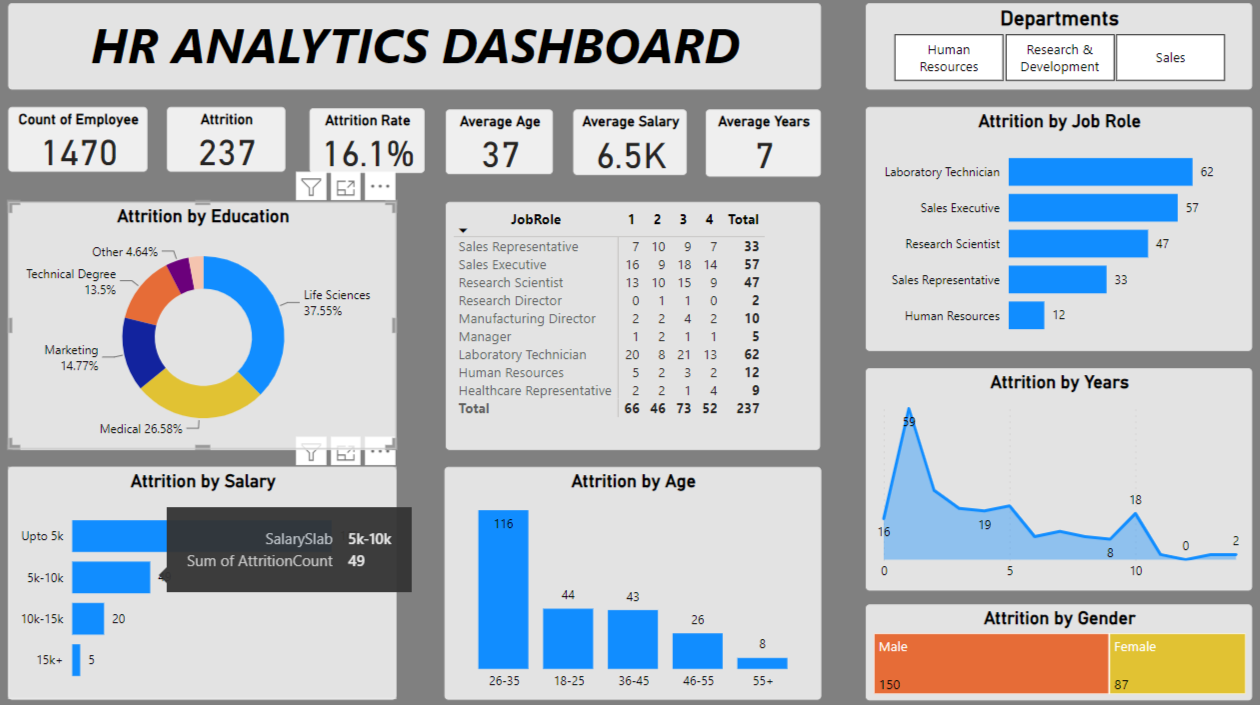

Layout of this report page (visuals, bound fields, positions):
{"tool":"powerbi","page":{"name":"Page 1","canvas":[1280,720],"ordinal":0},"visuals":[{"type":"card","title":"Count of Employee","fields":{"Values":["CountNonNull(HR_Analytics.EmpID)"]},"box":[17,113.8,139.4,64.9],"z":0},{"type":"card","title":"Attrition","fields":{"Values":["Sum(HR_Analytics.AttritionCount)"]},"box":[176.6,113.8,118.1,64.9],"z":1000},{"type":"card","title":"Attrition Rate","fields":{"Values":["HR_Analytics.AttritionRate"]},"box":[319.1,114.9,114.9,64.9],"z":2000},{"type":"card","title":"Average Age ","fields":{"Values":["Avg(HR_Analytics.Age)"]},"box":[455.3,116,107.4,64.9],"z":3000},{"type":"card","title":"Average Salary","fields":{"Values":["Avg(HR_Analytics.MonthlyIncome)"]},"box":[583,116,113.8,66],"z":4000},{"type":"card","title":"Average Years ","fields":{"Values":["Avg(HR_Analytics.YearsAtCompany)"]},"box":[714.9,116,114.9,67],"z":5000},{"type":"donutChart","title":"Attrition by Education","fields":{"Category":["HR_Analytics.EducationField"],"Y":["Sum(HR_Analytics.AttritionCount)"]},"box":[17,208.5,388.3,247.9],"z":6000},{"type":"columnChart","title":"Attrition by Age","fields":{"Category":["HR_Analytics.AgeGroup"],"Y":["Sum(HR_Analytics.AttritionCount)"]},"box":[453.2,473.4,376.6,233],"z":7000},{"type":"pivotTable","fields":{"Rows":["HR_Analytics.JobRole"],"Columns":["HR_Analytics.JobSatisfaction"],"Values":["Sum(HR_Analytics.AttritionCount)"]},"box":[455.3,208.5,374.5,247.9],"z":8000},{"type":"barChart","title":"Attrition by Salary","fields":{"Category":["HR_Analytics.SalarySlab"],"Y":["Sum(HR_Analytics.AttritionCount)"]},"box":[17,473.4,388.3,233],"z":9000},{"type":"barChart","title":"Attrition by Job Role","fields":{"Category":["HR_Analytics.JobRole"],"Y":["Sum(HR_Analytics.AttritionCount)"]},"box":[875.5,113.8,386.2,243.6],"z":10000},{"type":"areaChart","title":"Attrition by Years","fields":{"Category":["HR_Analytics.YearsAtCompany"],"Y":["Sum(HR_Analytics.AttritionCount)"]},"box":[875,375,386.2,222.5],"z":11000},{"type":"treemap","title":"Attrition by Gender","fields":{"Group":["HR_Analytics.Gender"],"Values":["Sum(HR_Analytics.AttritionCount)"]},"box":[875.5,610.6,386.2,95.7],"z":12000},{"type":"slicer","title":"Departments","fields":{"Values":["HR_Analytics.Department"]},"box":[875.5,9.6,386.2,86.2],"z":13000},{"type":"textbox","box":[17,9.6,812.8,86.2],"z":14000}]}

Visuals, with their boxes in screenshot pixels (x1, y1, x2, y2), scaled from the page's 1280x720 canvas onto the 1260x705 screenshot:
"Count of Employee" card: (17, 111, 154, 175)
"Attrition" card: (174, 111, 290, 175)
"Attrition Rate" card: (314, 113, 427, 176)
"Average Age " card: (448, 114, 554, 177)
"Average Salary" card: (574, 114, 686, 178)
"Average Years " card: (704, 114, 817, 179)
"Attrition by Education" donutChart: (17, 204, 399, 447)
"Attrition by Age" columnChart: (446, 464, 817, 692)
pivotTable - HR_Analytics.JobRole x HR_Analytics.JobSatisfaction: (448, 204, 817, 447)
"Attrition by Salary" barChart: (17, 464, 399, 692)
"Attrition by Job Role" barChart: (862, 111, 1242, 350)
"Attrition by Years" areaChart: (861, 367, 1241, 585)
"Attrition by Gender" treemap: (862, 598, 1242, 692)
"Departments" slicer: (862, 9, 1242, 94)
textbox: (17, 9, 817, 94)
